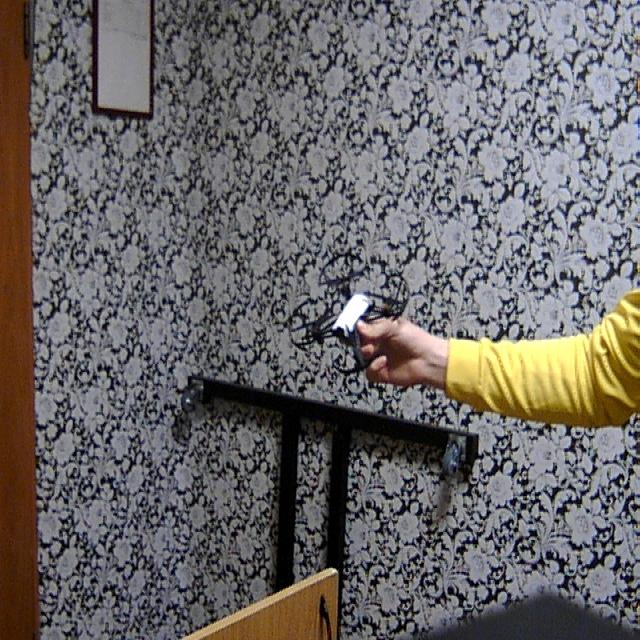drone: (286, 244, 412, 384)
